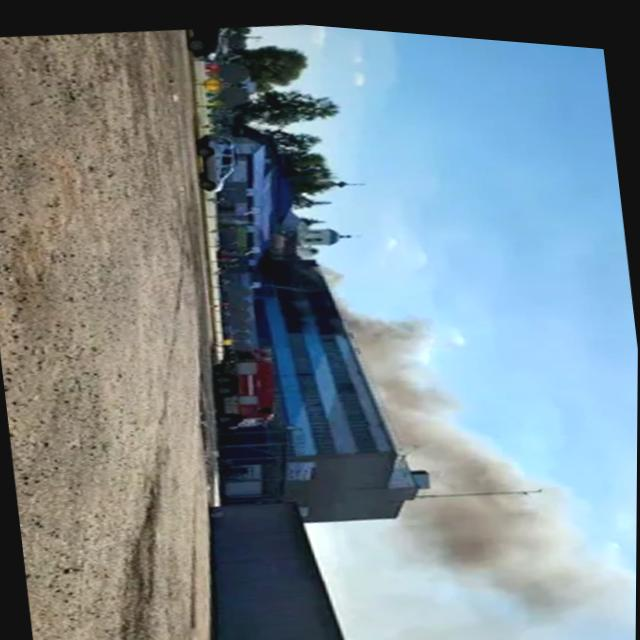Smoke: (345, 282, 634, 627)
